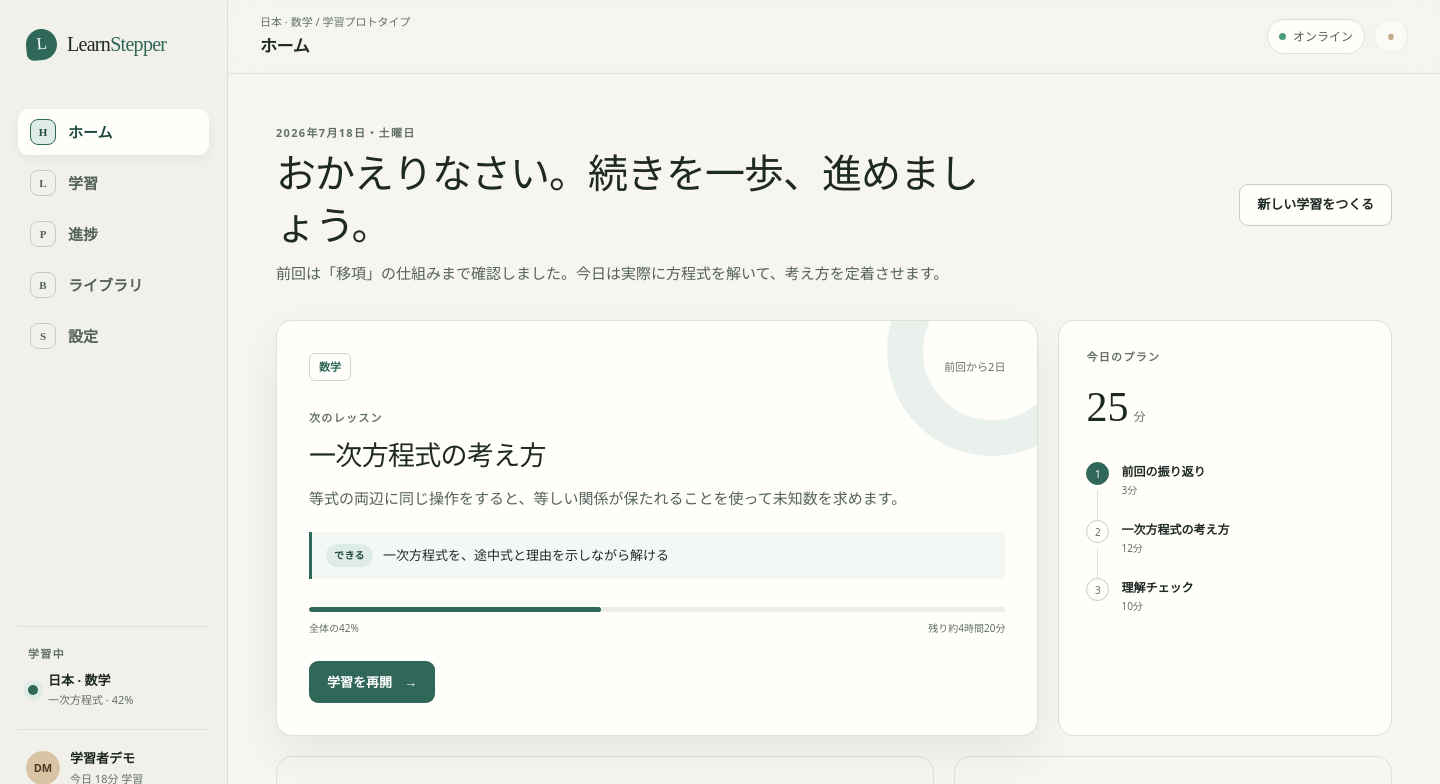
LearnStepper prototype journeys › completes a generated answer and accepts a following question
Click the button "学習を再開 →" at (372, 682), box left=309, top=662, right=435, bottom=704
(page scrolled)
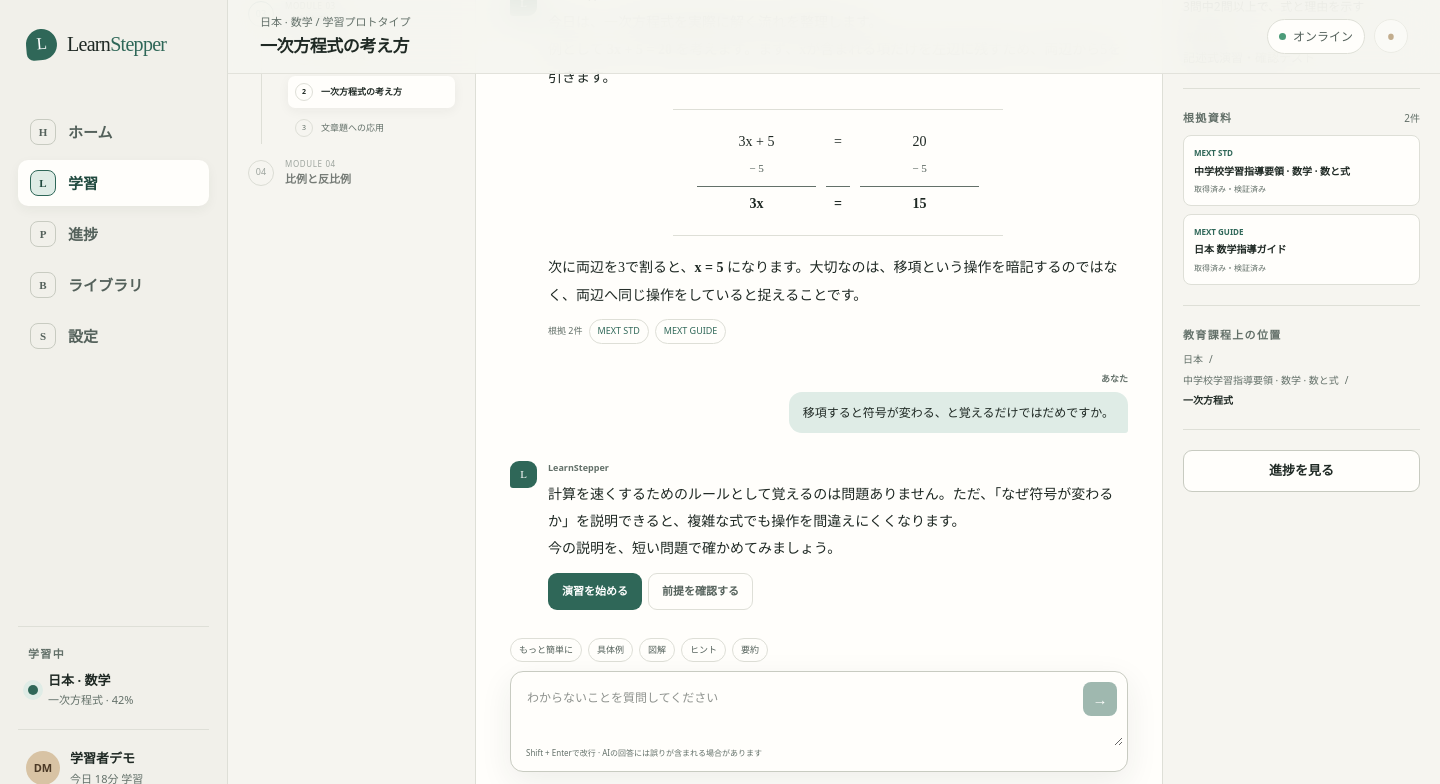
Type "なぜ両辺へ同じ操作をしますか" into the text box named "質問を入力" at (819, 711), box left=515, top=676, right=1123, bottom=746
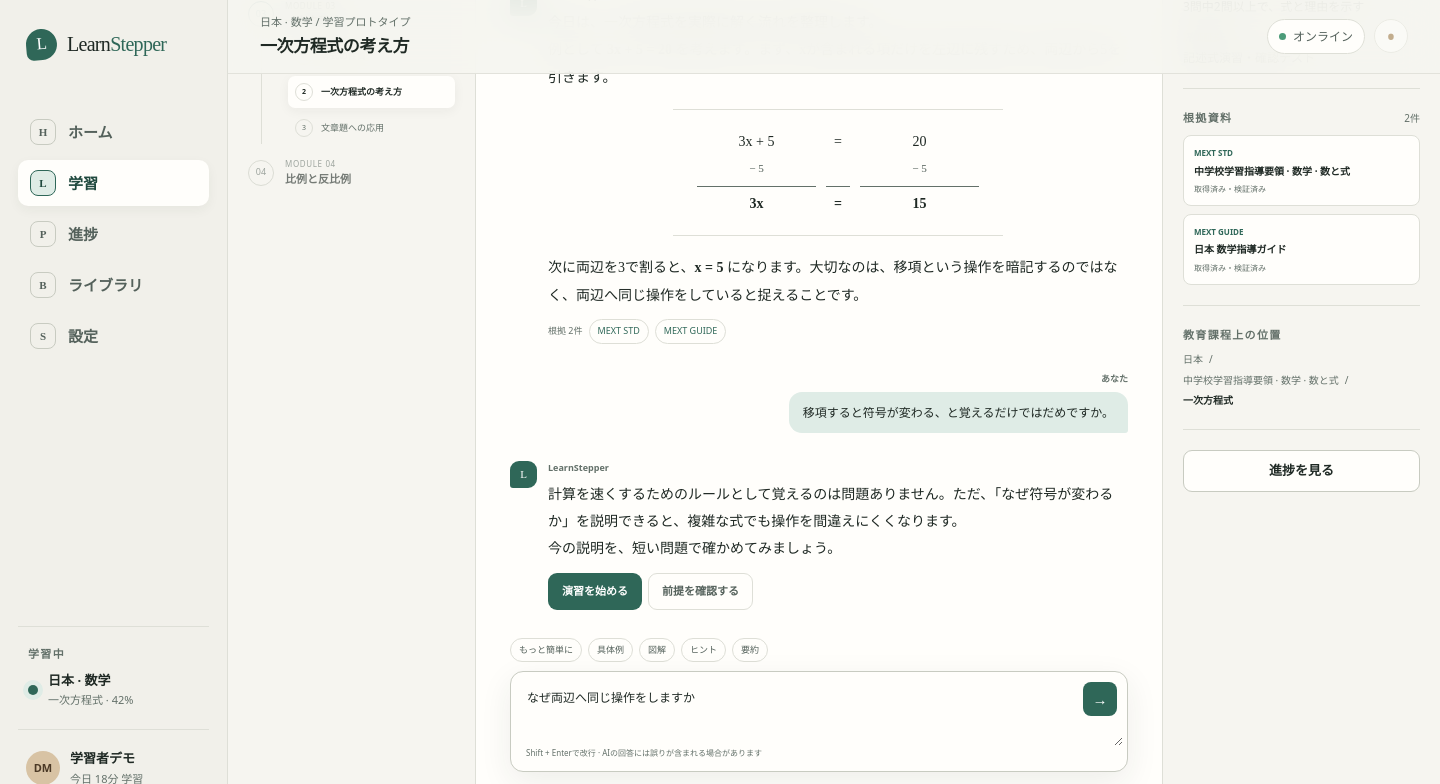
Click the button named "質問を送信" at (1100, 699), box left=1083, top=682, right=1117, bottom=716
(page scrolled)
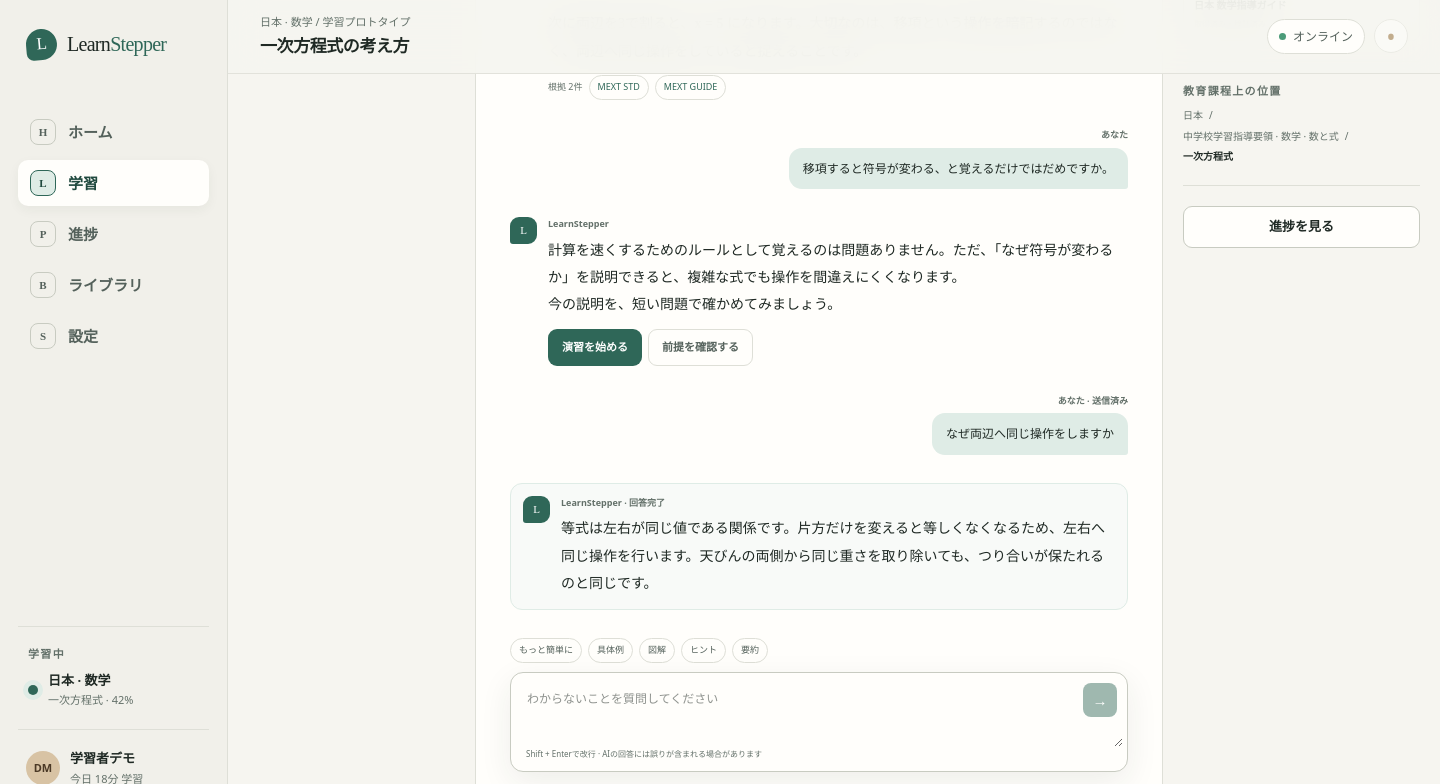
Expected: the text "LearnStepper · 回答完了" is shown, left=561, top=496, right=665, bottom=508
Type "別の例も教えてください" into the text box named "質問を入力" at (819, 712), box left=515, top=677, right=1123, bottom=747
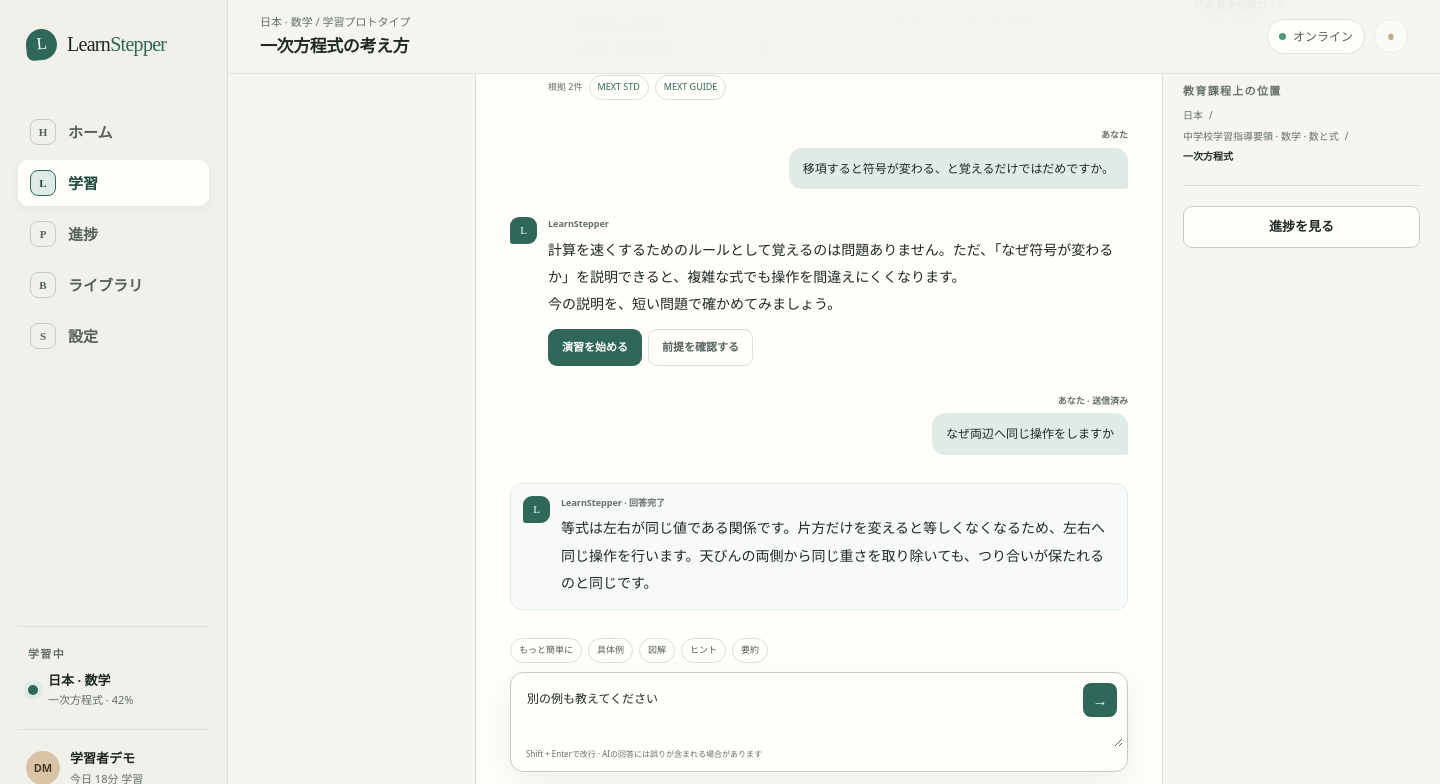
Click the button named "質問を送信" at (1100, 700), box left=1083, top=683, right=1117, bottom=717
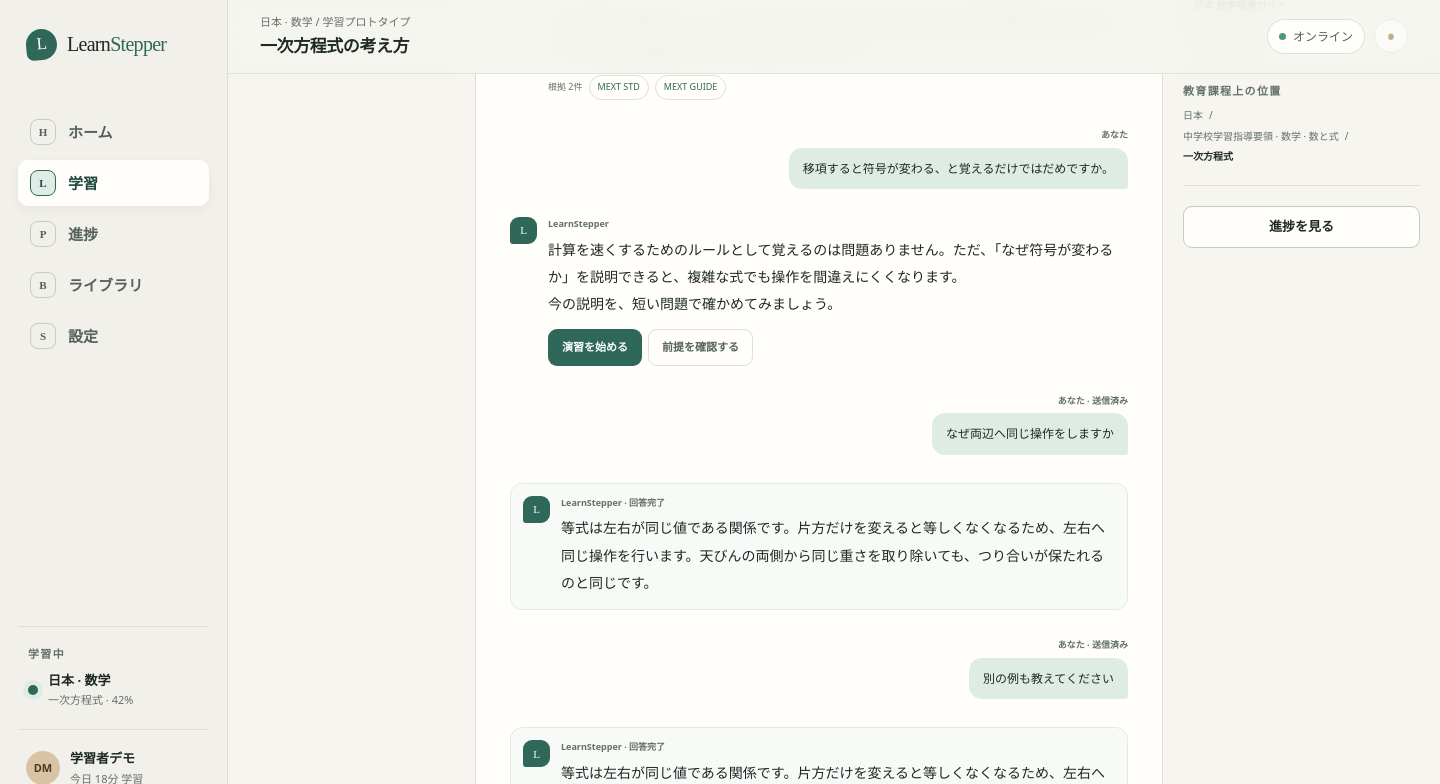
Expected: the text "LearnStepper · 回答完了" is shown 2 times, left=561, top=496, right=665, bottom=508; left=561, top=740, right=665, bottom=753
